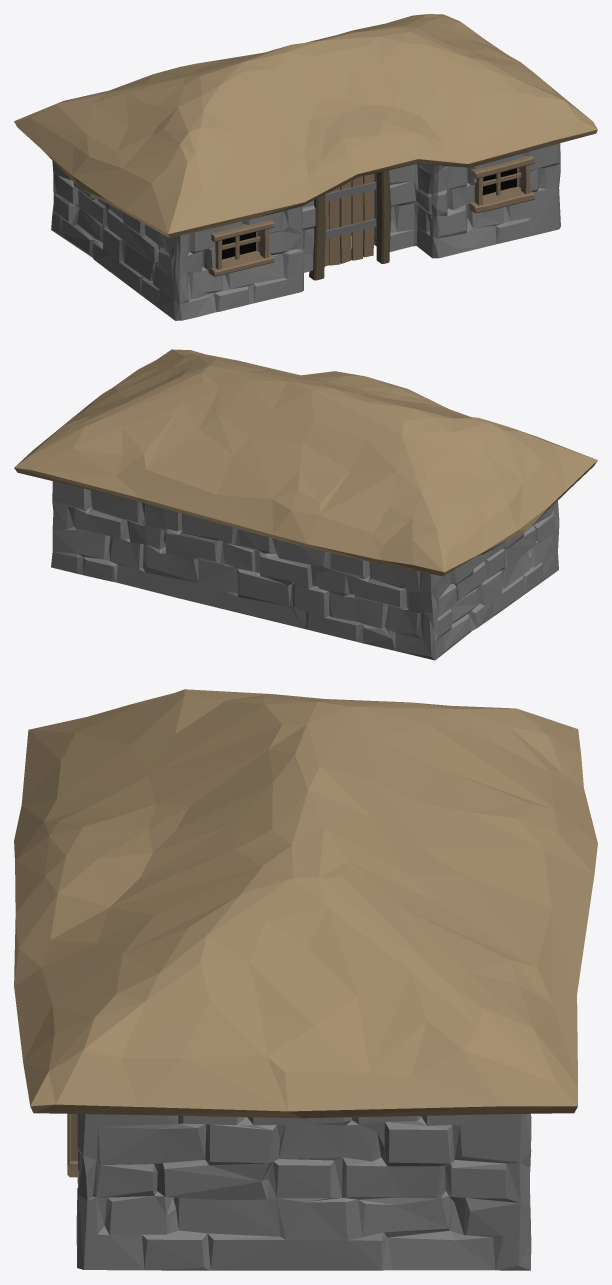
The model's file is village_stone_house_j.FBX.
The picture shows the model from 3 angles, top to bottom: view 1: azimuth 30°, elevation 25°; view 2: azimuth 150°, elevation 25°; view 3: azimuth 270°, elevation 25°; orthographic projection. The views are drawn at different scales.
Parts seen in each view (by area): view 1: village_stone_house_j; view 2: village_stone_house_j; view 3: village_stone_house_j.
Boxes of the visible parts, x1,y1,x2,y2 form: village_stone_house_j: (14,14,597,320); village_stone_house_j: (14,349,597,660); village_stone_house_j: (14,689,597,1270).
Size of the model in its own units: 9.74 by 4.01 by 6.16.
